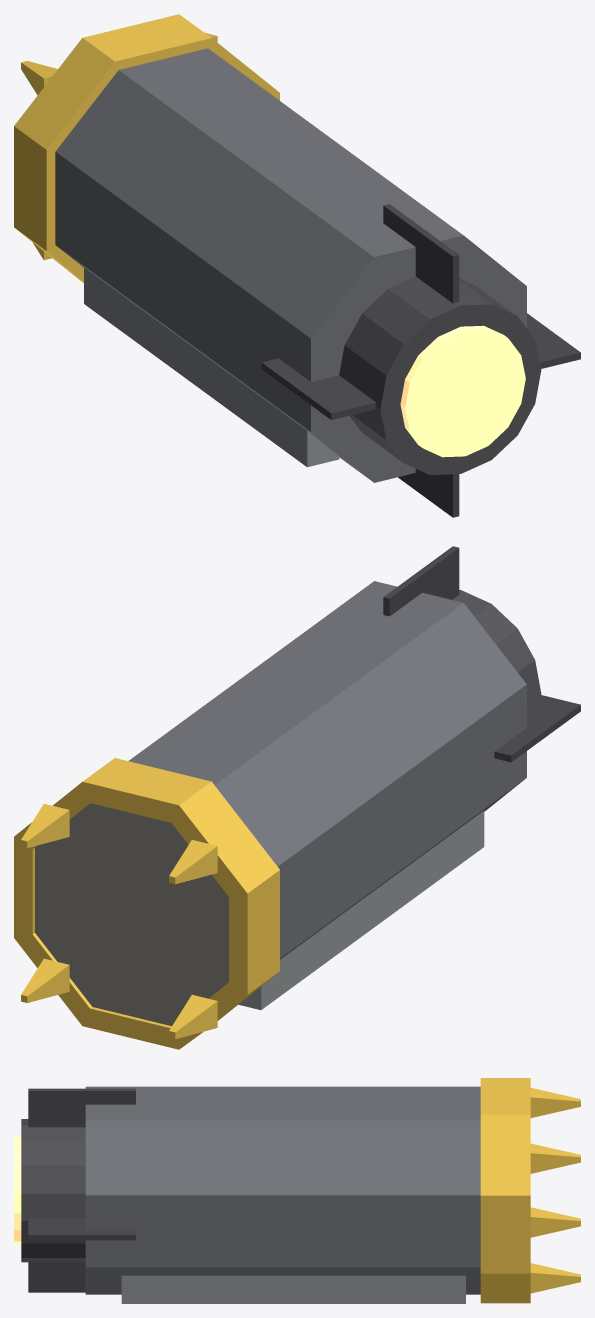
File: ship_XS_POD.glb
The picture shows the model from 3 angles, top to bottom: view 1: azimuth 30°, elevation 25°; view 2: azimuth 150°, elevation 25°; view 3: azimuth 270°, elevation 25°; orthographic projection. The views are drawn at different scales.
Visible parts, largest first — view 1: XS_POD_Hull-col, XS_POD_Engines, XS_POD_Hazard, XS_POD_EngineGlow, XS_POD_Trim, XS_POD_Interior-col; view 2: XS_POD_Hull-col, XS_POD_Hatch-col, XS_POD_Hazard, XS_POD_Interior-col, XS_POD_Trim, XS_POD_Engines; view 3: XS_POD_Hull-col, XS_POD_Hazard, XS_POD_Interior-col, XS_POD_Engines, XS_POD_Trim, XS_POD_EngineGlow.
Part boxes in pixels (<box>): XS_POD_Hull-col: <box>55,48,526,482</box>; XS_POD_Engines: <box>339,276,541,475</box>; XS_POD_Hazard: <box>14,14,279,282</box>; XS_POD_EngineGlow: <box>400,325,525,457</box>; XS_POD_Trim: <box>261,204,580,517</box>; XS_POD_Interior-col: <box>84,267,339,467</box>; XS_POD_Hull-col: <box>128,581,526,959</box>; XS_POD_Hatch-col: <box>35,803,228,1026</box>; XS_POD_Hazard: <box>14,758,279,1049</box>; XS_POD_Interior-col: <box>238,811,484,1009</box>; XS_POD_Trim: <box>383,546,580,762</box>; XS_POD_Engines: <box>453,590,541,699</box>; XS_POD_Hull-col: <box>85,1086,480,1294</box>; XS_POD_Hazard: <box>480,1078,580,1303</box>; XS_POD_Interior-col: <box>121,1275,465,1303</box>; XS_POD_Engines: <box>21,1119,85,1262</box>; XS_POD_Trim: <box>28,1088,135,1292</box>; XS_POD_EngineGlow: <box>14,1137,21,1244</box>.
Bounding box in the file's own units: 3.1 × 3.1 × 7.9.
